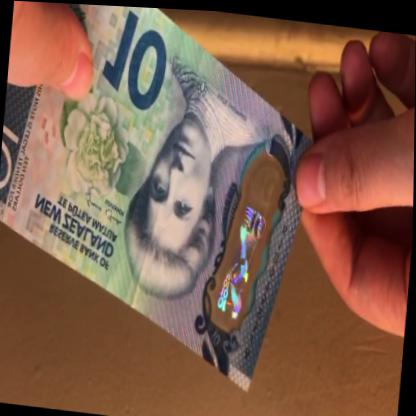10B: (212, 160, 281, 328)
